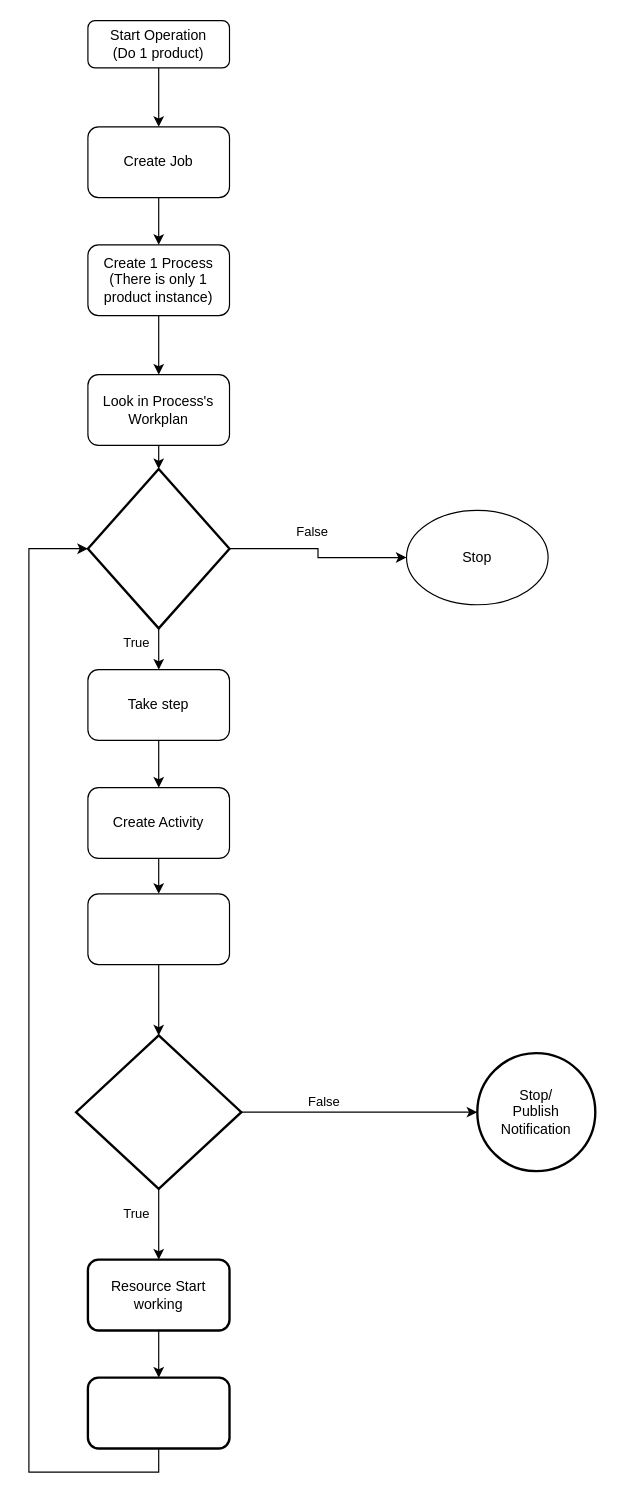
Image size: 617x1502. Some labels were removed from this diagram. The centre of each missing label's shape, as x and y in pixels:
"Find Matching capability using the ProvidedBy() method" goes at point (158, 1111).
"Is there a next workplan step?" goes at point (158, 548).
"Populate Parameter of the Activity" goes at point (158, 929).
"Resource is done Working" goes at point (158, 1412).
